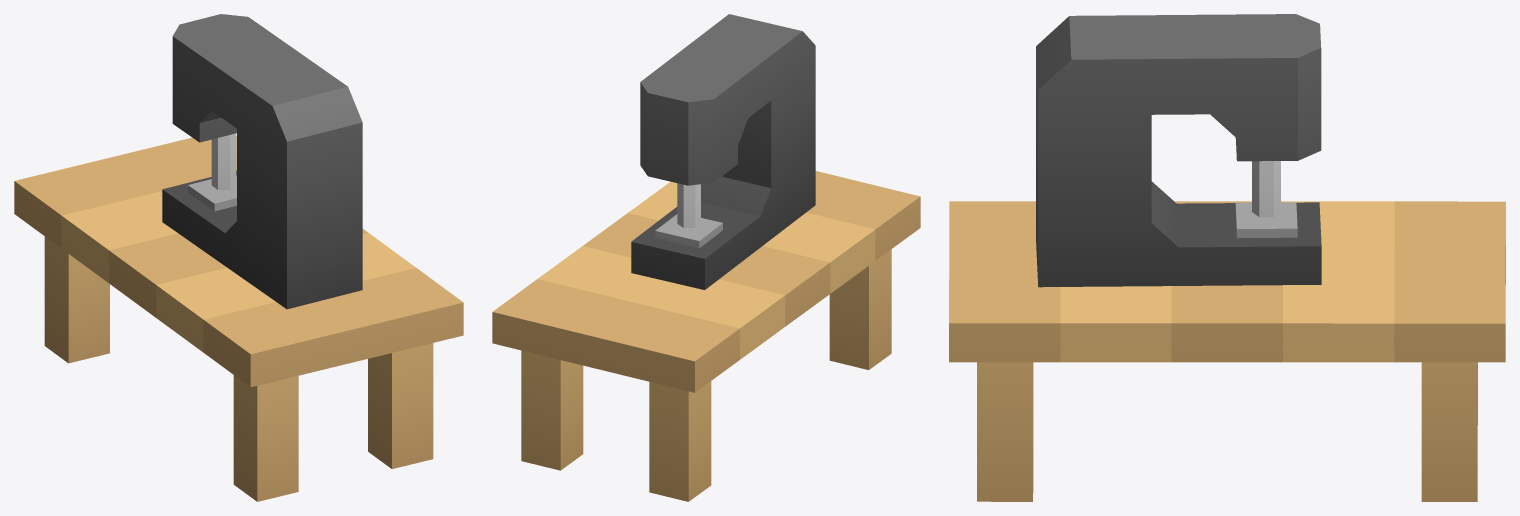
Rendered from sewing machine.fbx.
The picture shows the model from 3 angles, left to right: view 1: azimuth 30°, elevation 25°; view 2: azimuth 150°, elevation 25°; view 3: azimuth 270°, elevation 25°; orthographic projection. The views are drawn at different scales.
Parts seen in each view (by area): view 1: sewing_machine; view 2: sewing_machine; view 3: sewing_machine.
Boxes of the visible parts, x1,y1,x2,y2 form: sewing_machine: [14, 14, 463, 501]; sewing_machine: [492, 14, 920, 501]; sewing_machine: [949, 14, 1505, 501].
Size of the model in its own units: 108 by 172 by 208.
1 material, 1 textured.
